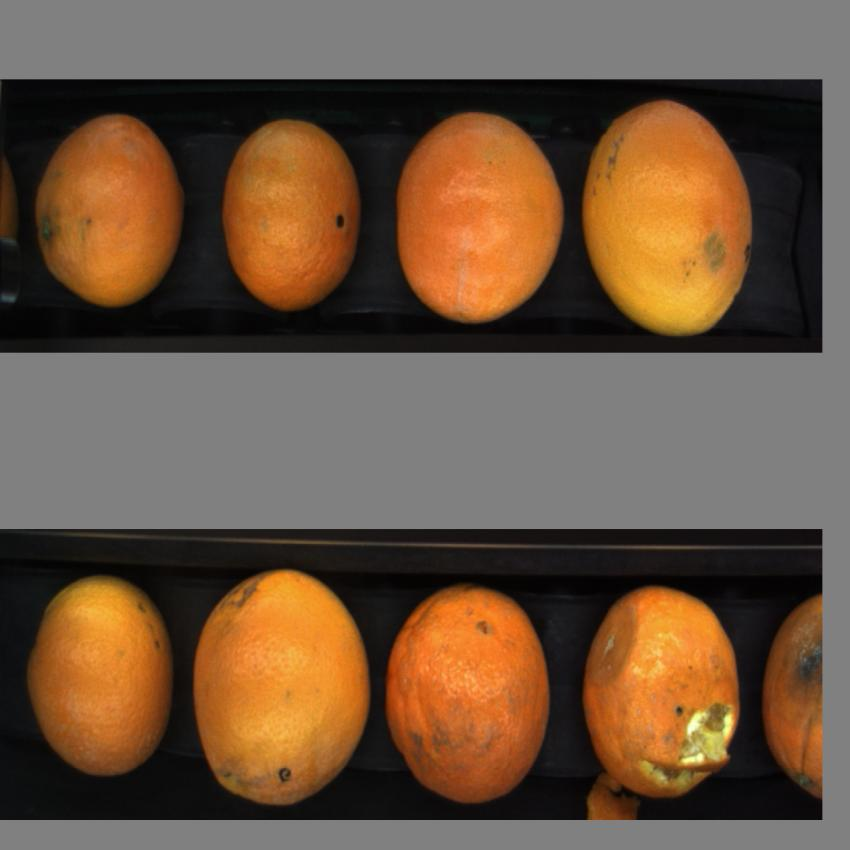Buen estado: (191, 574, 379, 804), (576, 104, 760, 328), (386, 587, 559, 801), (390, 113, 570, 316), (24, 577, 176, 787), (34, 105, 190, 301), (219, 115, 366, 316)
Mal estado: (576, 586, 745, 815), (759, 596, 822, 810)
